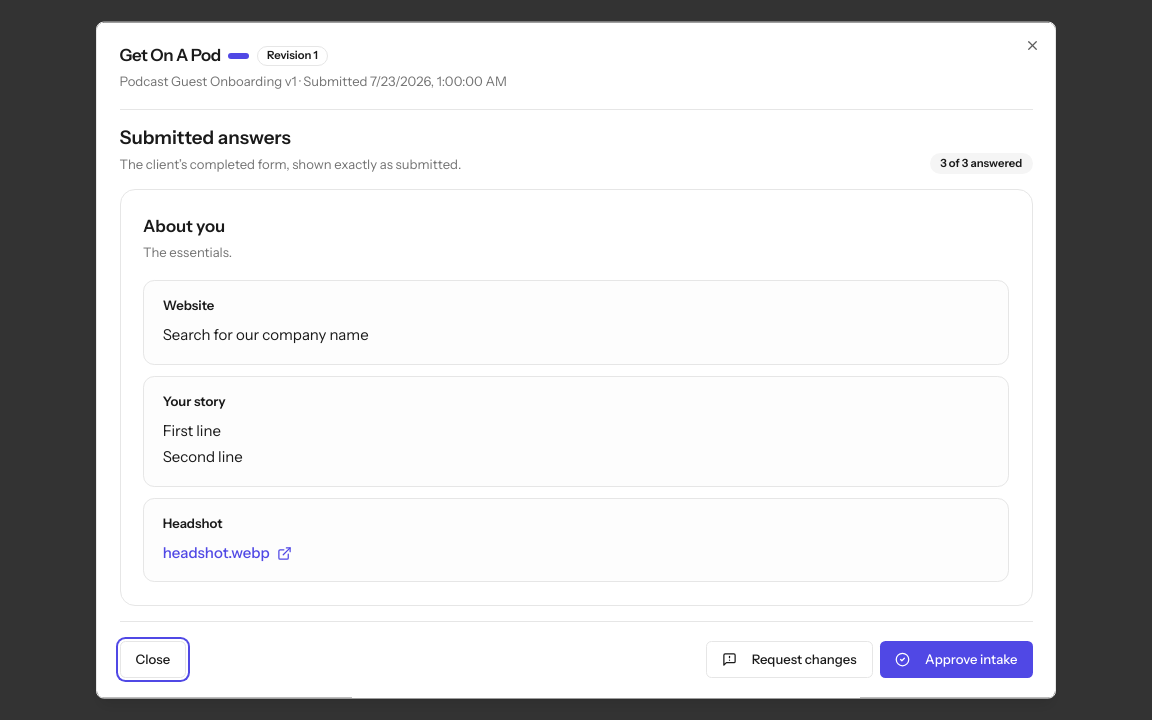
Scenario: OnboardingReviewDialog › says that sending emails the client and reopens their link
Step 1. Click the button "Request changes" → (789, 659), box [706,640,873,678]
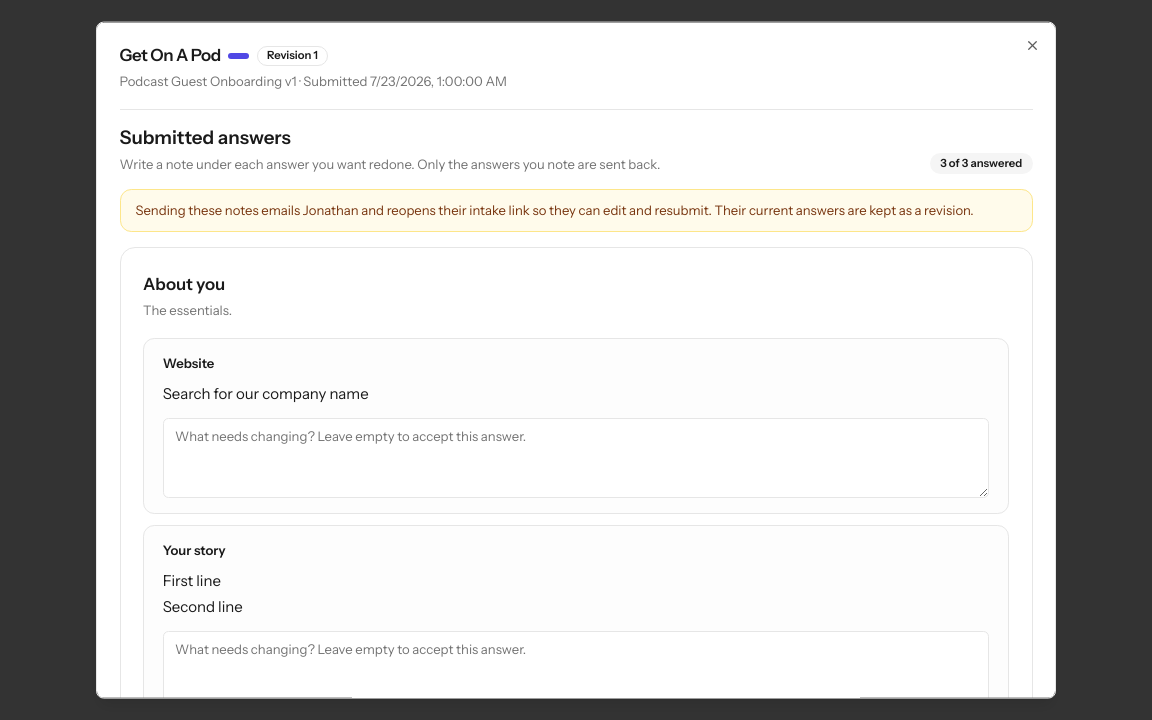
expect the message shows "emails Jonathan and reopens their intake link": met, box [120,189,1032,232]
